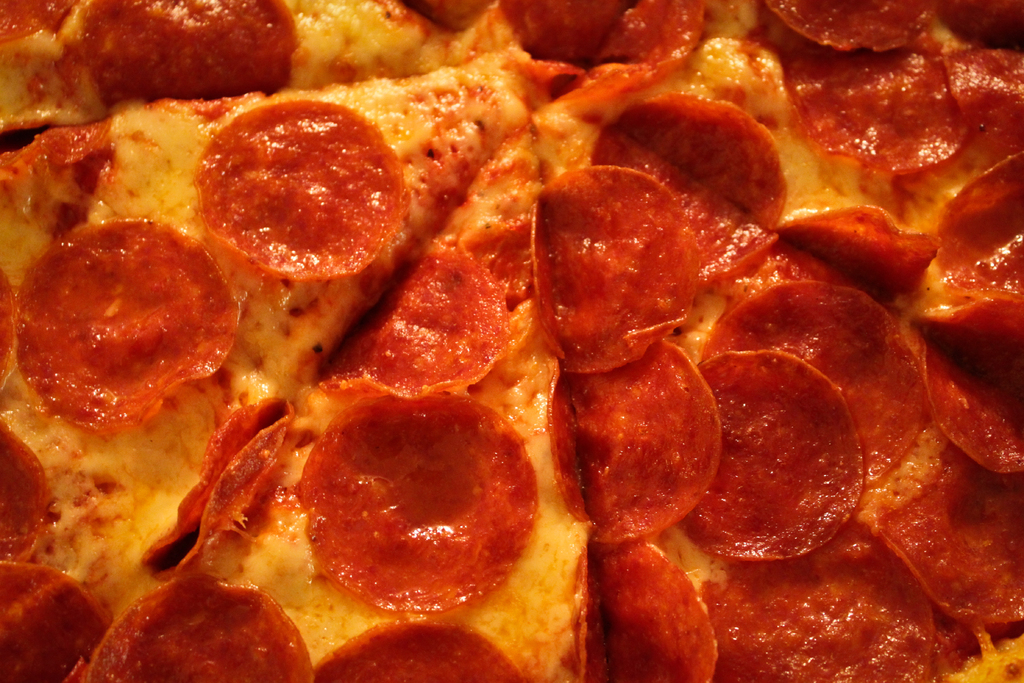Pizza: (0, 0, 1024, 677)
